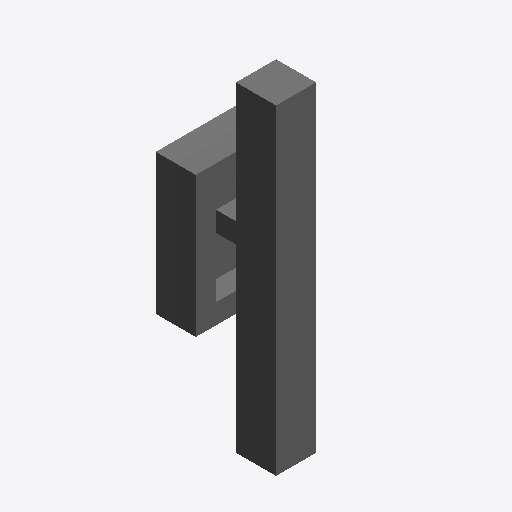
A Minecraft block model of 7 cuboids, rendered isometrically (azimuth 45°, elevation 35.3°) with the resource pack's own textures.
Parts seen in each view (by area): element 7, element 6, element 2, element 4, element 3, element 1.
Part boxes in pixels (x1,y1,x2,y2): element 7: (236, 59, 315, 475); element 6: (176, 152, 215, 336); element 2: (156, 106, 235, 324); element 4: (196, 129, 235, 185); element 3: (216, 268, 235, 324); element 1: (216, 198, 235, 243).
Size of the model in its own units: 6 by 16 by 4.